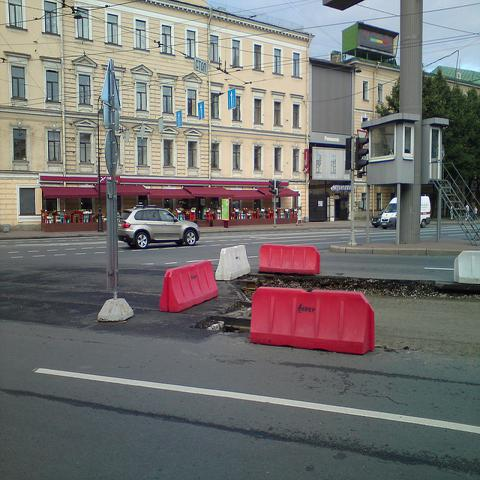car: (118, 207, 200, 248), (372, 209, 385, 228)
truck: (380, 196, 431, 229)
